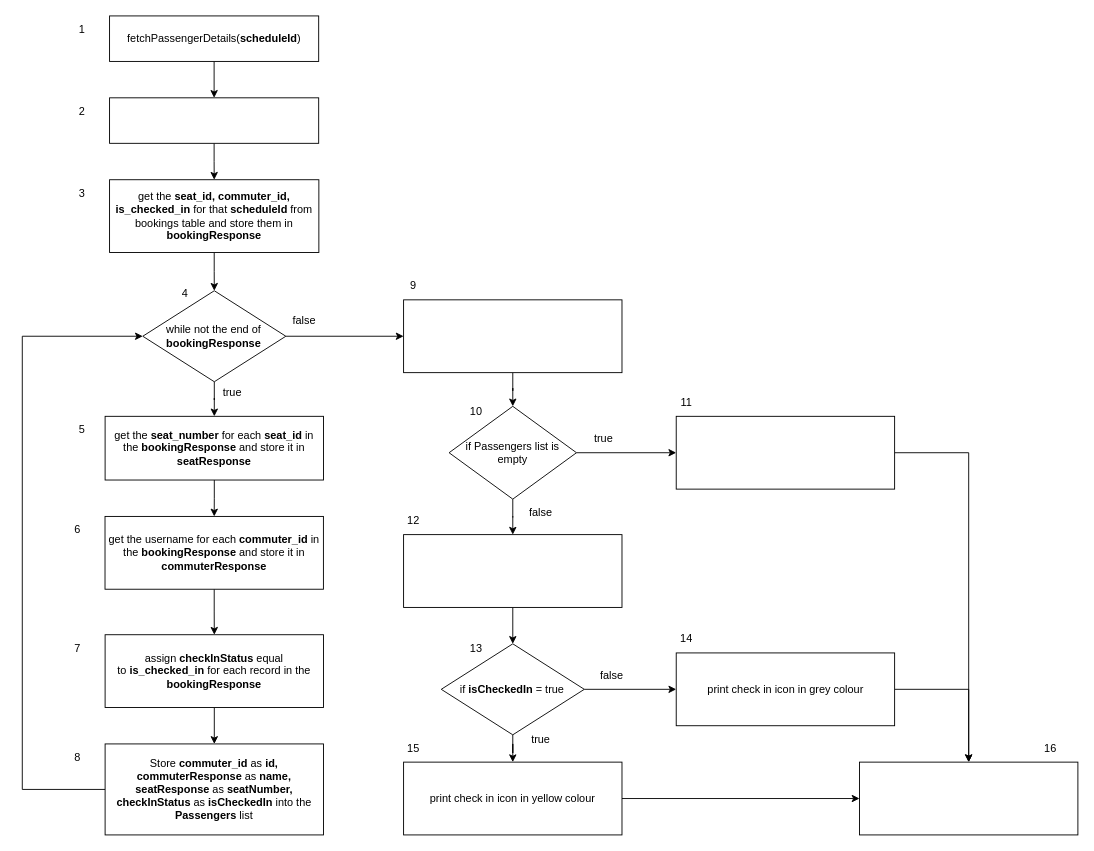
The diagram is 1094 pixels wide and 851 high, and some of its shapes have lost their labels. The centre of each missing label's shape, as x and y in pixels:
form an empty list named Passengers: (214,120)
print "No passengers found": (785,452)
print name , seatNumber: (512,570)
return: (968,798)
sort the Passengers list in ascending order of seatResponse: (512,336)
